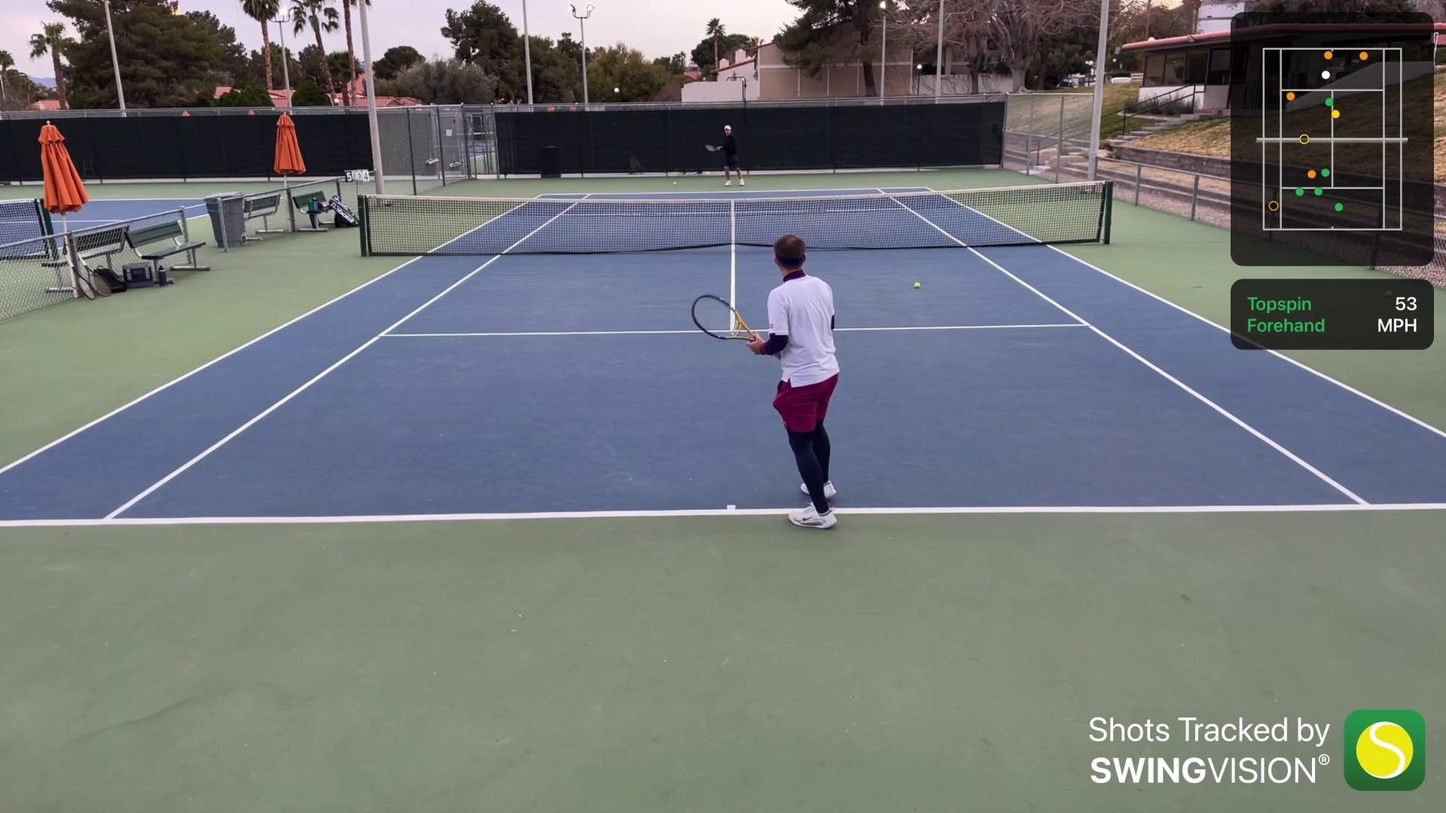ball: (913, 280, 923, 291), (673, 178, 679, 186)
